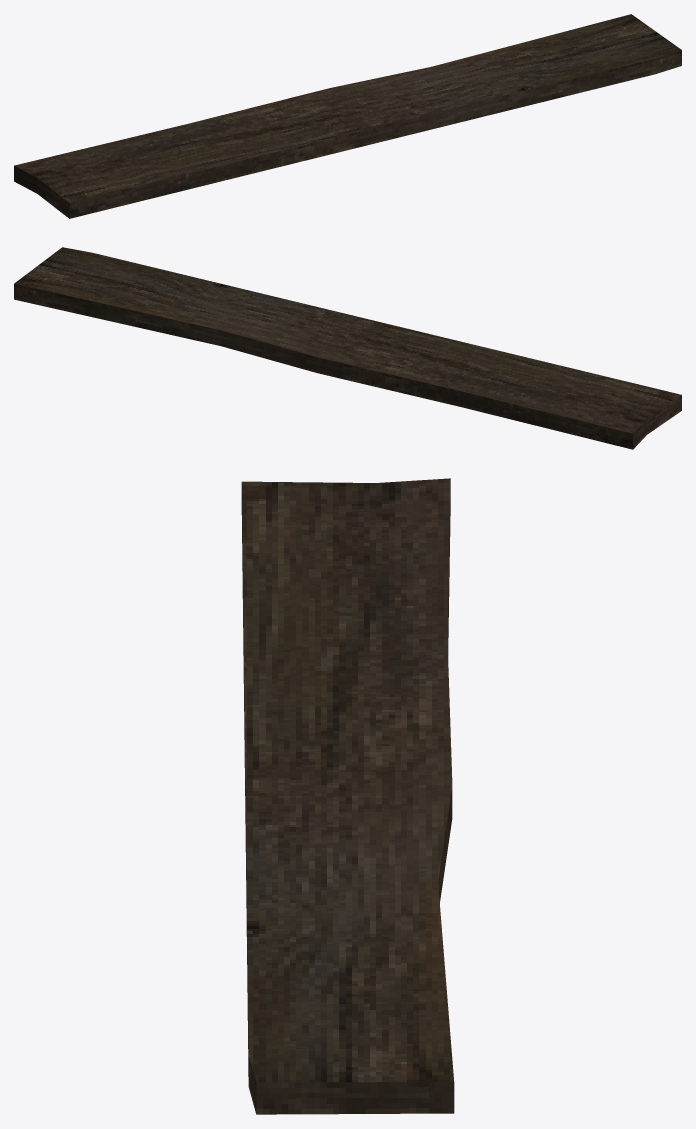
The model's file is wooden_plank_1.glb.
The picture shows the model from 3 angles, top to bottom: view 1: azimuth 30°, elevation 25°; view 2: azimuth 150°, elevation 25°; view 3: azimuth 270°, elevation 25°; orthographic projection. The views are drawn at different scales.
Visible parts, largest first — view 1: wooden_plank_1; view 2: wooden_plank_1; view 3: wooden_plank_1.
Part boxes in pixels (box(x1,y1,x2,y2)): wooden_plank_1: box(14, 14, 681, 218); wooden_plank_1: box(14, 247, 681, 449); wooden_plank_1: box(241, 478, 454, 1114).
Size of the model in its own units: 1.22 by 0.03 by 0.1816.
1 material, 1 textured.
